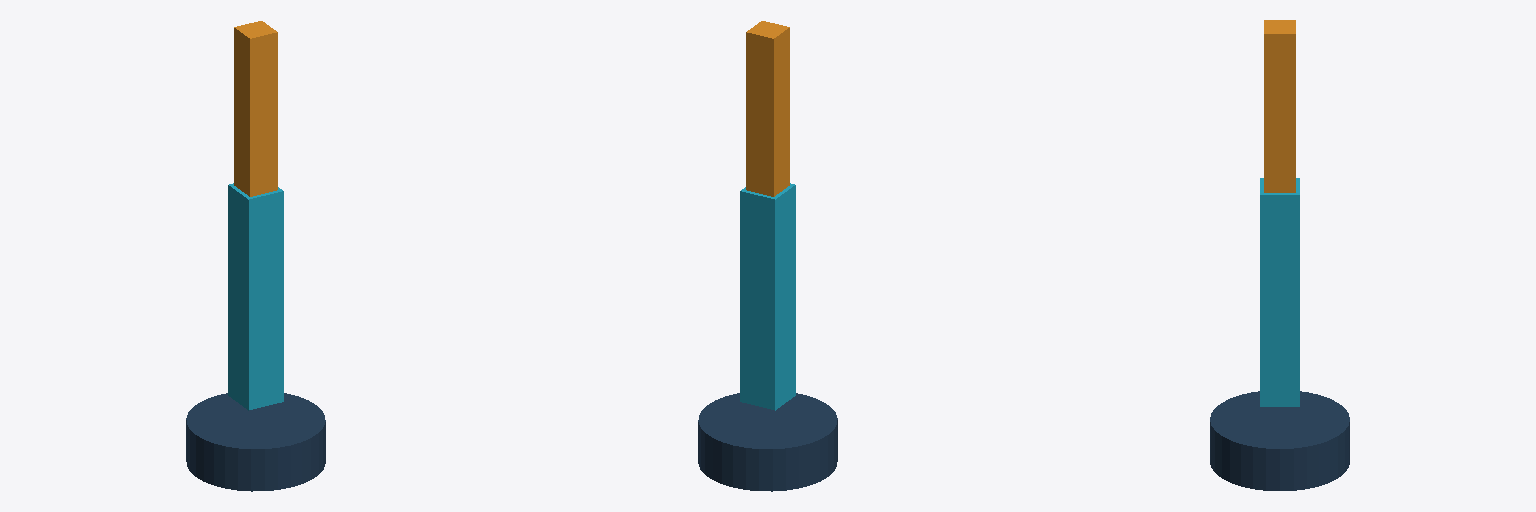
robot.urdf — behavior_sim_arm:
<?xml version="1.0"?>
<robot name="behavior_sim_arm">
  <link name="base">
    <visual><geometry><cylinder radius="0.12" length="0.08"/></geometry><material name="base"><color rgba="0.2 0.3 0.4 1"/></material></visual>
  </link>
  <link name="upper_arm">
    <visual><origin xyz="0 0 0.2"/><geometry><box size="0.07 0.07 0.4"/></geometry><material name="upper"><color rgba="0.2 0.7 0.8 1"/></material></visual>
  </link>
  <joint name="shoulder_joint" type="revolute">
    <parent link="base"/><child link="upper_arm"/><origin xyz="0 0 0.08"/><axis xyz="0 1 0"/><limit lower="-2" upper="2" effort="10" velocity="10"/>
  </joint>
  <link name="forearm">
    <visual><origin xyz="0 0 0.15"/><geometry><box size="0.055 0.055 0.3"/></geometry><material name="forearm"><color rgba="0.9 0.6 0.2 1"/></material></visual>
  </link>
  <joint name="elbow_joint" type="revolute">
    <parent link="upper_arm"/><child link="forearm"/><origin xyz="0 0 0.4"/><axis xyz="0 1 0"/><limit lower="-2.5" upper="2.5" effort="10" velocity="10"/>
  </joint>
</robot>

--- Render facts (derived) ---
The picture shows the robot from 3 angles, left to right: view 1: azimuth 30°, elevation 25°; view 2: azimuth 150°, elevation 25°; view 3: azimuth 270°, elevation 25°; orthographic projection.
Robot: behavior_sim_arm — 3 links, 2 joints (2 revolute); root link base; default pose: every joint at zero.
Visible links, largest first — view 1: upper_arm, base, forearm; view 2: upper_arm, base, forearm; view 3: base, upper_arm, forearm.
Link boxes in pixels (bbox=[...]): upper_arm: bbox=[228, 183, 283, 410]; base: bbox=[186, 393, 325, 491]; forearm: bbox=[234, 21, 277, 196]; upper_arm: bbox=[740, 183, 795, 410]; base: bbox=[698, 393, 837, 491]; forearm: bbox=[746, 21, 789, 196]; base: bbox=[1210, 391, 1349, 490]; upper_arm: bbox=[1260, 178, 1299, 406]; forearm: bbox=[1264, 20, 1295, 192].
Size in the robot's own frame: 0.24 by 0.24 by 0.82 metres.
Geometry: primitives only (box / cylinder / sphere), no mesh files.
